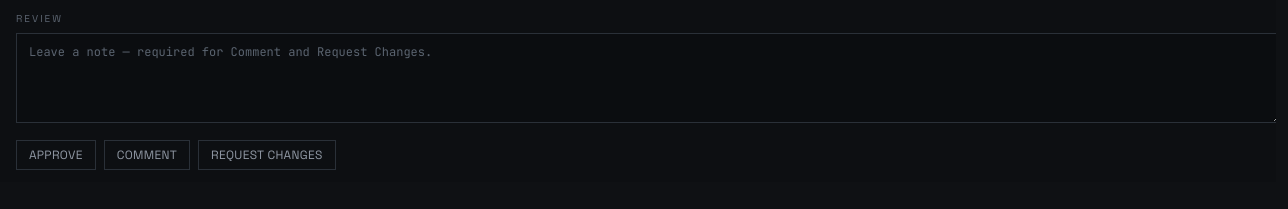
Scenario: ReviewActions › Comment requires a body and surfaces an inline error when empty
The image size is (1288, 209).
What coordinates should you click on to do the following:
click the button with test id "review-comment"
I would click on:
 (147, 155)
Its box is [104,140,190,170].
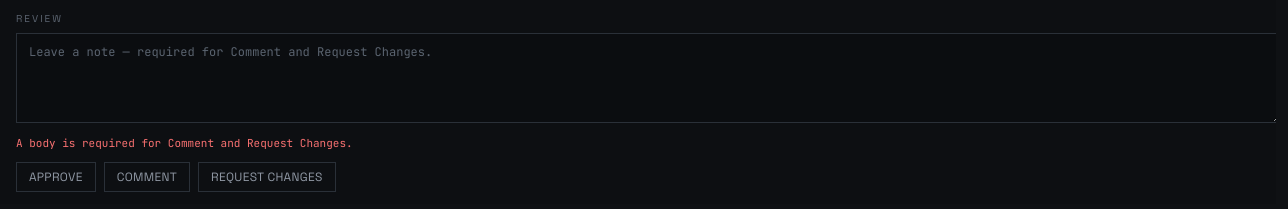
Check: the text with test id "review-error" shows "body is required", box [16,136,353,150]
